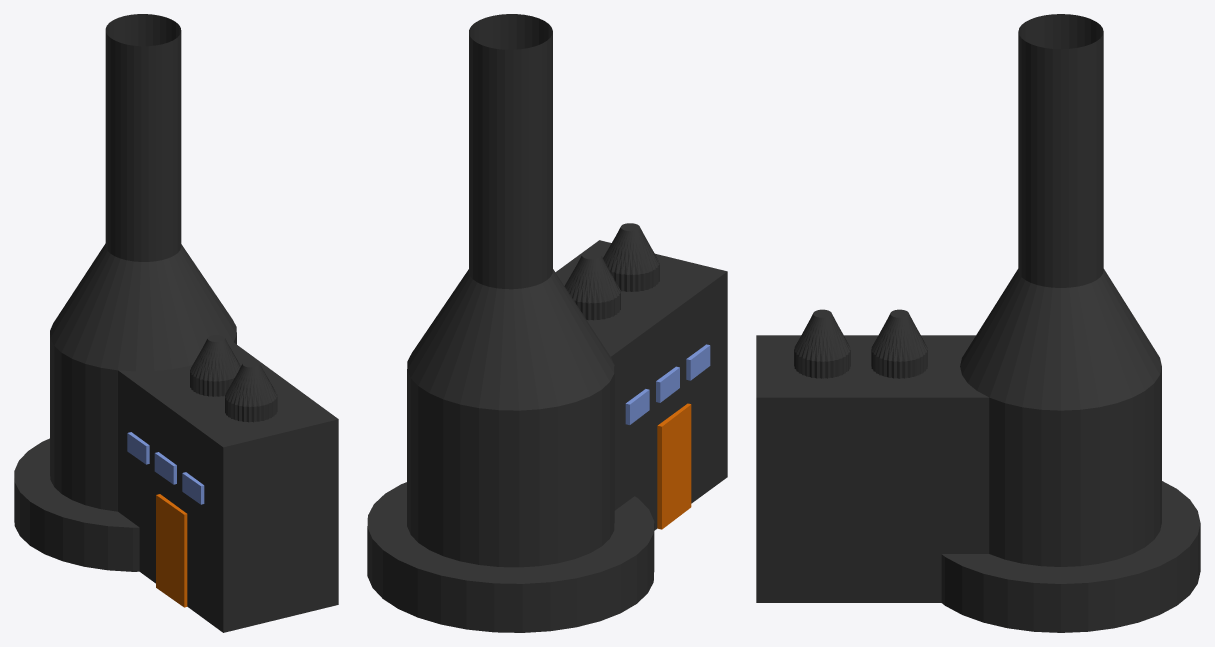
Rendered from Factory_amvg.fbx.
3 views of the same model, side by side, from view 1: azimuth 30°, elevation 25°; view 2: azimuth 150°, elevation 25°; view 3: azimuth 270°, elevation 25° (orthographic). The views are drawn at different scales.
Parts seen in each view (by area): view 1: Cubo.004; view 2: Cubo.004; view 3: Cubo.004.
Part boxes in pixels (box(x1,y1,x2,y2)): Cubo.004: box(14, 14, 338, 632); Cubo.004: box(367, 14, 727, 632); Cubo.004: box(756, 14, 1200, 632).
Size of the model in its own units: 256 by 526 by 392.
